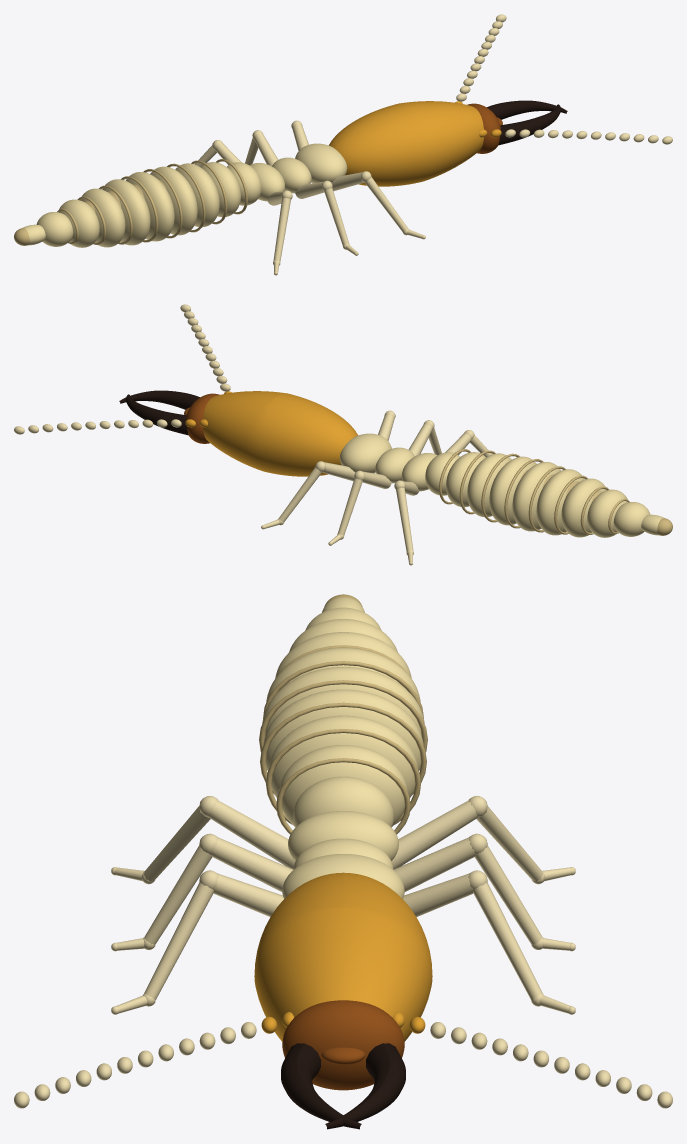
The model's file is rayap_prajurit.glb.
3 renders of one model, top to bottom at view 1: azimuth 30°, elevation 25°; view 2: azimuth 150°, elevation 25°; view 3: azimuth 270°, elevation 25°, orthographic. The views are drawn at different scales.
Parts seen in each view (by area): view 1: head_capsule, abdomen_seg_5, abdomen_seg_6, abdomen_seg_4, abdomen_seg_7, pronotum, abdomen_seg_3, abdomen_seg_8, abdomen_seg_2, abdomen_seg_9, mesothorax, mandible_R (+7 smaller); view 2: head_capsule, abdomen_seg_5, abdomen_seg_6, abdomen_seg_4, abdomen_seg_7, pronotum, abdomen_seg_3, abdomen_seg_8, abdomen_seg_2, abdomen_seg_9, mesothorax, mandible_L (+7 smaller); view 3: head_capsule, head_front, abdomen_seg_3, abdomen_seg_2, abdomen_seg_4, abdomen_seg_1, metathorax, abdomen_seg_5, mandible_L, mandible_R, pronotum, abdomen_seg_6 (+20 smaller).
Boxes of the visible parts, x1,y1,x2,y2 form: head_capsule: (329,101,483,186); abdomen_seg_5: (126,172,174,241); abdomen_seg_6: (102,179,150,245); abdomen_seg_4: (150,166,197,235); abdomen_seg_7: (80,188,125,247); pronotum: (295,143,347,183); abdomen_seg_3: (175,163,219,227); abdomen_seg_8: (59,199,99,247); abdomen_seg_2: (201,162,240,216); abdomen_seg_9: (36,212,73,246); mesothorax: (272,157,311,193); mandible_R: (498,104,560,145); head_capsule: (203,391,357,476); abdomen_seg_5: (512,462,560,531); abdomen_seg_6: (536,469,584,535); abdomen_seg_4: (489,456,536,525); abdomen_seg_7: (561,478,606,537); pronotum: (339,433,391,473); abdomen_seg_3: (467,453,511,517); abdomen_seg_8: (587,489,627,537); abdomen_seg_2: (446,452,485,506); abdomen_seg_9: (613,502,650,536); mesothorax: (375,447,414,483); mandible_L: (126,394,188,435); head_capsule: (254,872,432,1041); head_front: (282,1000,404,1090); abdomen_seg_3: (269,715,417,798); abdomen_seg_2: (279,745,407,826); abdomen_seg_4: (263,689,423,770); abdomen_seg_1: (293,776,393,827); metathorax: (288,811,398,860); abdomen_seg_5: (262,667,424,735); mandible_L: (325,1043,405,1129); mandible_R: (281,1043,361,1129); pronotum: (282,854,404,898); abdomen_seg_6: (266,648,420,701).
Size of the model in its own units: 0.0115 by 0.00149 by 0.00592.
